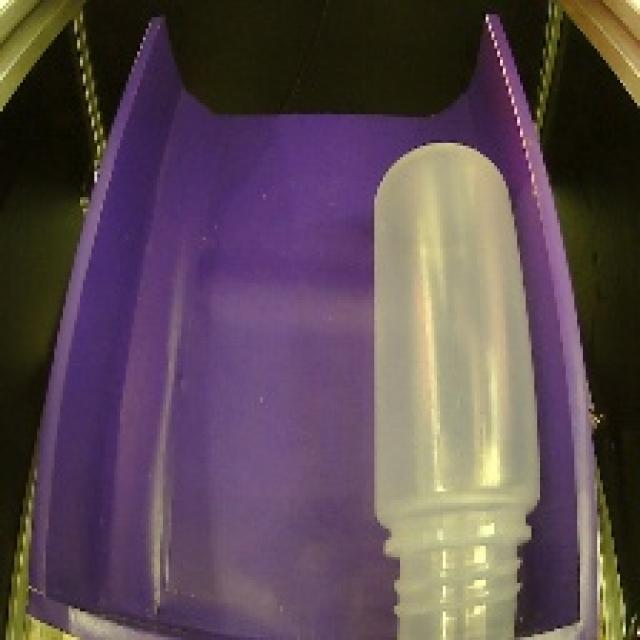plastic: (359, 125, 556, 640)
